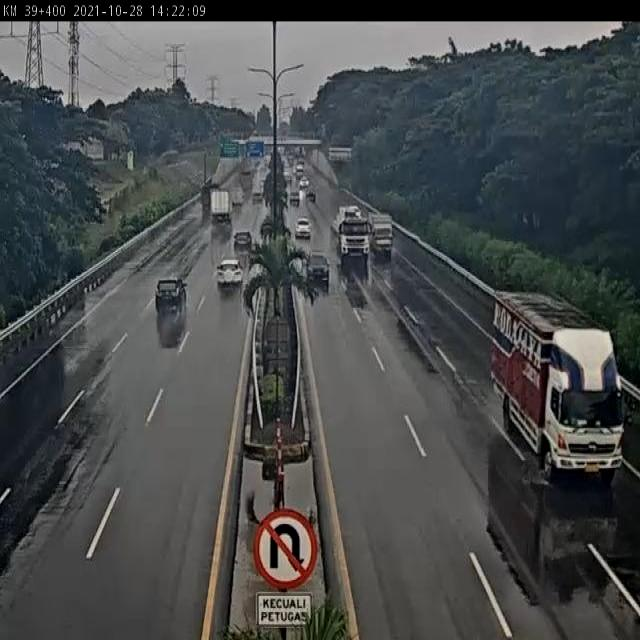Car: (155, 277, 188, 313), (306, 249, 331, 287), (217, 258, 244, 287), (234, 232, 252, 252), (295, 218, 311, 238), (252, 185, 264, 203), (290, 188, 300, 206), (241, 160, 252, 175), (299, 177, 309, 190), (306, 187, 315, 200), (284, 175, 291, 186), (283, 168, 289, 177)
Truck: (490, 284, 632, 482), (330, 204, 375, 260), (367, 212, 396, 260), (210, 188, 232, 222), (200, 180, 221, 210), (230, 186, 245, 207)
